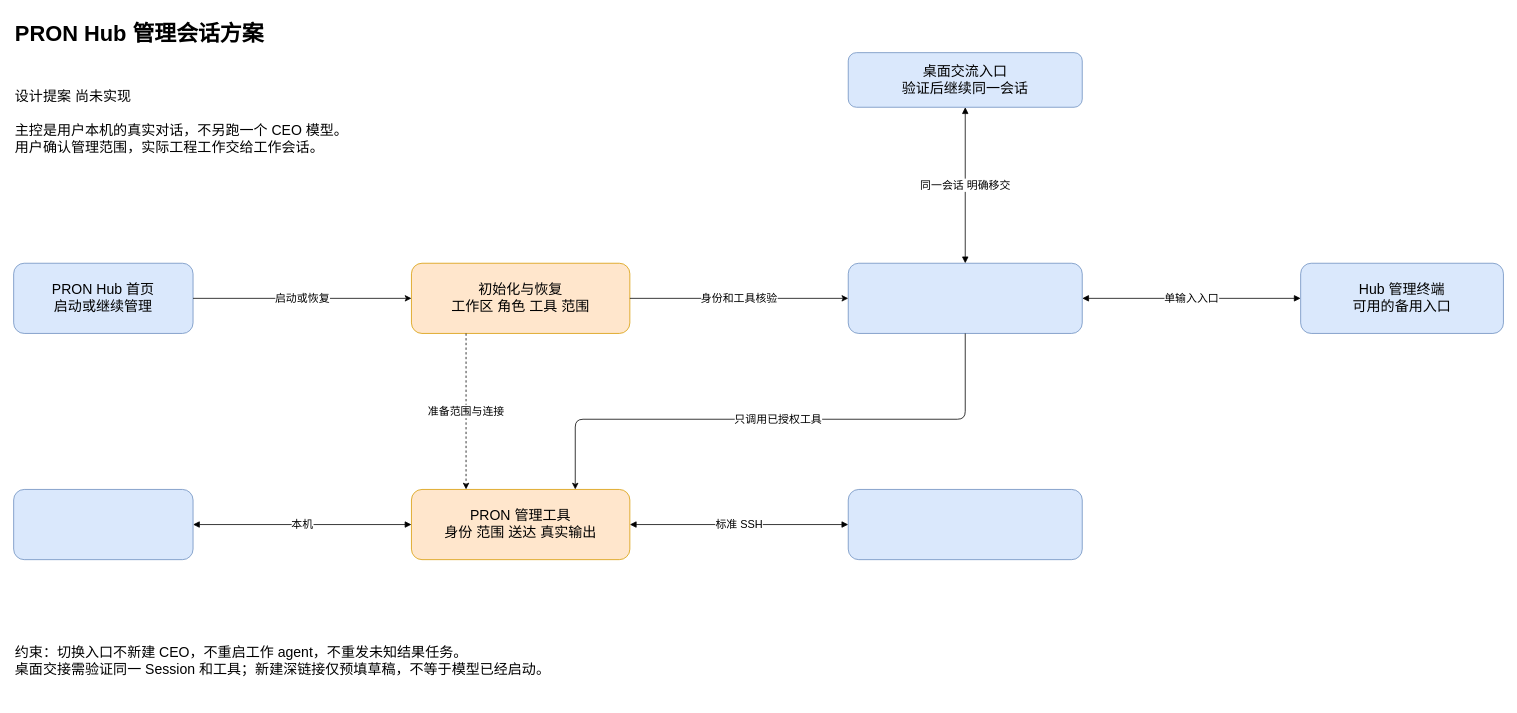
Some shapes in this 1517 by 713 pixel diagram are drawn without their labels. The centre of each missing label's shape, as x and y in pixels:
"本机原生管理会话 准确 Session ID 持久历史" goes at (964,297).
"本机工作会话 原终端 原工作" goes at (103,524).
"远端工作会话 标准 SSH 原终端 原工作" goes at (964,524).
